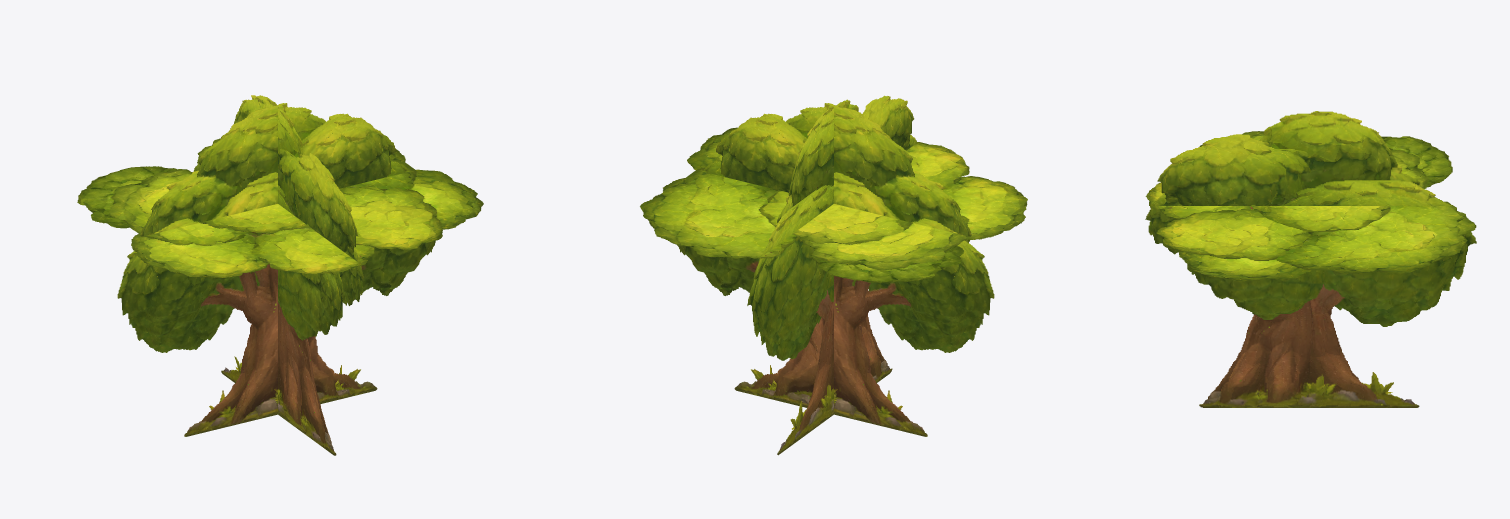
File: tree-golden-canopy.glb
3 views of the same model, side by side, from view 1: azimuth 30°, elevation 25°; view 2: azimuth 150°, elevation 25°; view 3: azimuth 270°, elevation 25° (orthographic). The views are drawn at different scales.
Bounding box in the file's own units: 1.97 × 1.97 × 1.97.
Materials: 1 (1 with a texture image).
